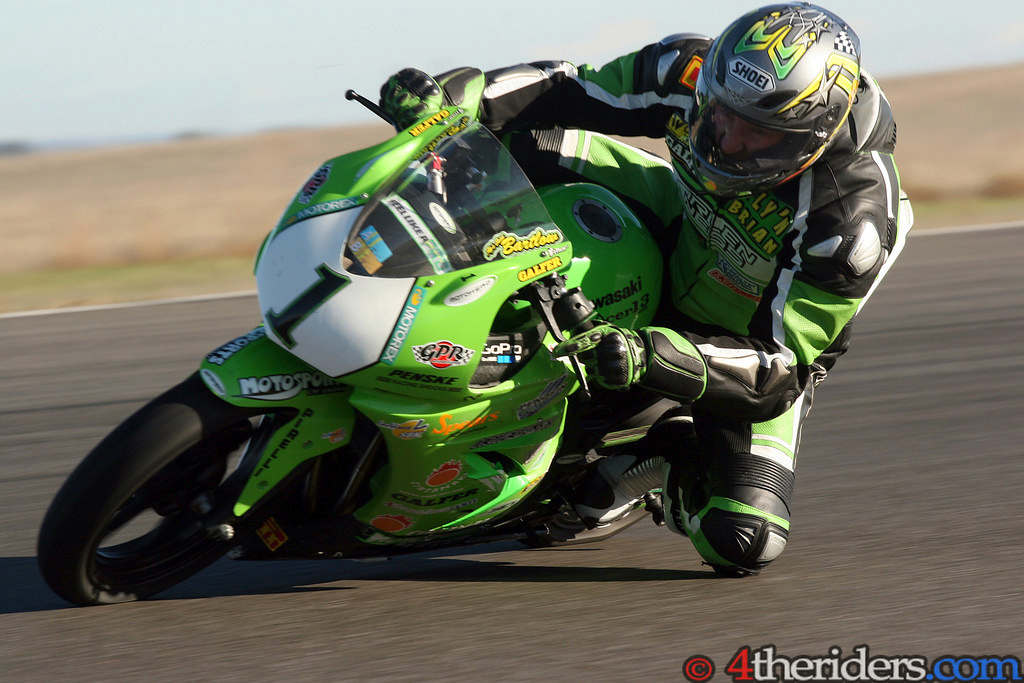helmet: (661, 1, 906, 203)
